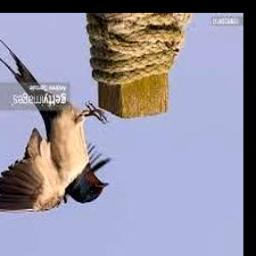Swallow: (0, 23, 112, 213)
